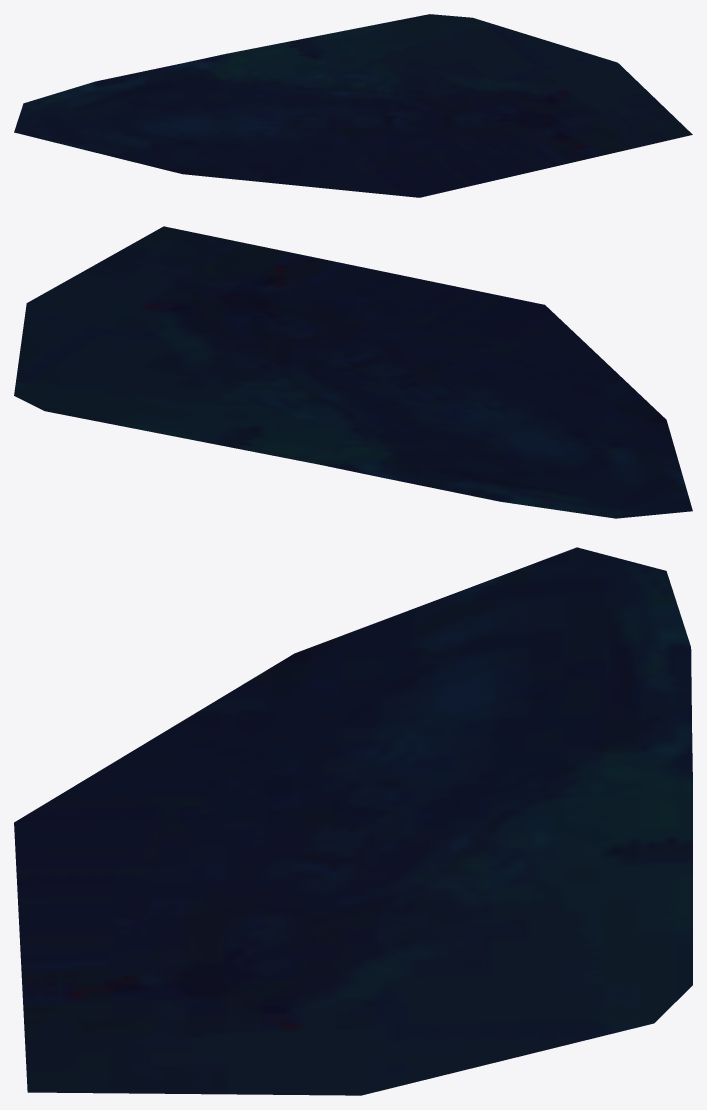
The model's file is febg_tropical_002_admire_shadow_var.fbx.
3 views of the same model, one above another, from view 1: azimuth 30°, elevation 25°; view 2: azimuth 150°, elevation 25°; view 3: azimuth 270°, elevation 25° (orthographic). The views are drawn at different scales.
Visible parts, largest first — view 1: febg_tropical_002_admire_shadow_var; view 2: febg_tropical_002_admire_shadow_var; view 3: febg_tropical_002_admire_shadow_var.
Boxes of the visible parts, left/top/right/bottom form: febg_tropical_002_admire_shadow_var: left=14, top=14, right=692, bottom=197; febg_tropical_002_admire_shadow_var: left=14, top=226, right=692, bottom=518; febg_tropical_002_admire_shadow_var: left=14, top=547, right=692, bottom=1095.
Size of the model in its own units: 66.26 by 3.52 by 37.54.
1 material, 1 textured.
